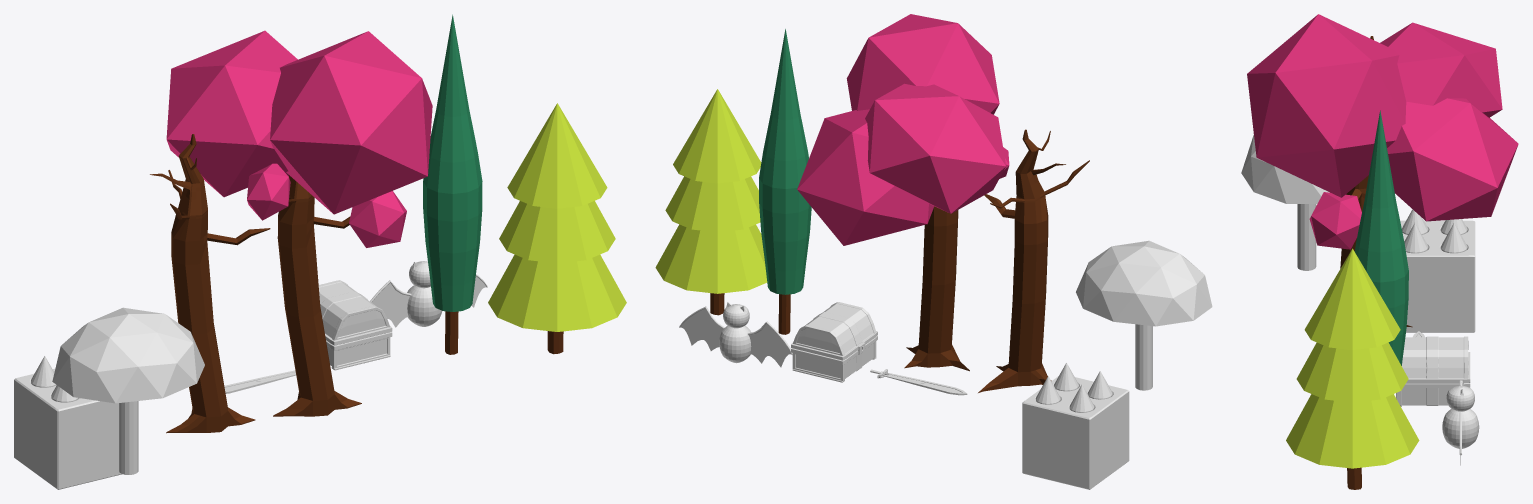
The model's file is assets unity.fbx.
The picture shows the model from 3 angles, left to right: view 1: azimuth 30°, elevation 25°; view 2: azimuth 150°, elevation 25°; view 3: azimuth 270°, elevation 25°; orthographic projection. The views are drawn at different scales.
Parts seen in each view (by area): view 1: arbol, abeto/pino, seta, cipres, arbol_sin_copa, pasarlea_pinchos, cofre, murcielago, pinchos; view 2: arbol, abeto/pino, seta, cipres, pasarlea_pinchos, arbol_sin_copa, cofre, murcielago, pinchos, espada; view 3: arbol, abeto/pino, pasarlea_pinchos, cipres, cofre, seta, murcielago, pinchos.
Part boxes in pixels (x1,y1,x2,y2): arbol: (166,30,432,416); abeto/pino: (488,103,626,354); seta: (52,307,204,474); cipres: (423,14,482,354); arbol_sin_copa: (150,134,270,433); pasarlea_pinchos: (14,368,122,489); cofre: (318,280,392,370); murcielago: (370,261,487,327); pinchos: (31,356,78,402); arbol: (797,14,1009,371); abeto/pino: (655,89,767,315); seta: (1076,240,1212,390); cipres: (759,29,811,334); pasarlea_pinchos: (1022,376,1129,489); arbol_sin_copa: (978,129,1089,392); cofre: (791,302,877,382); murcielago: (679,302,792,367); pinchos: (1035,363,1112,412); espada: (870,369,967,395); arbol: (1247,14,1518,268); abeto/pino: (1286,248,1419,489); pasarlea_pinchos: (1400,220,1475,332); cipres: (1354,110,1408,365); cofre: (1396,336,1470,406); seta: (1241,135,1329,270); murcielago: (1442,380,1479,465); pinchos: (1402,209,1467,253).
Bounding box in the file's own units: 1510 × 1014 × 652.
